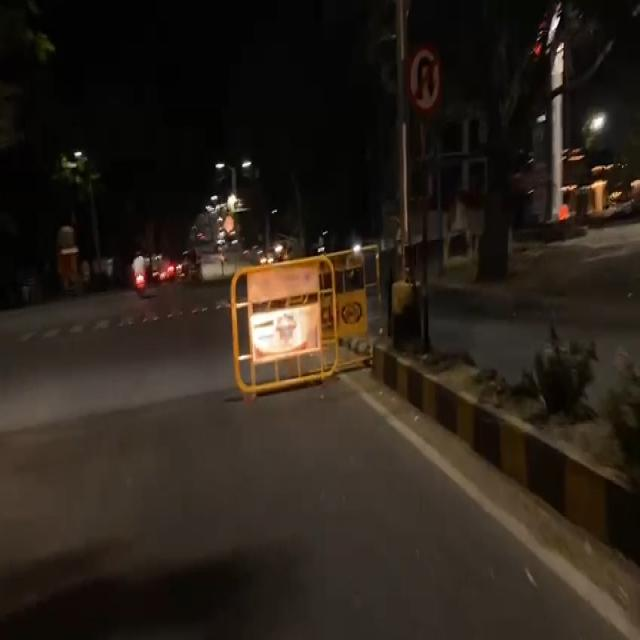bien_cam: (403, 41, 444, 118)
